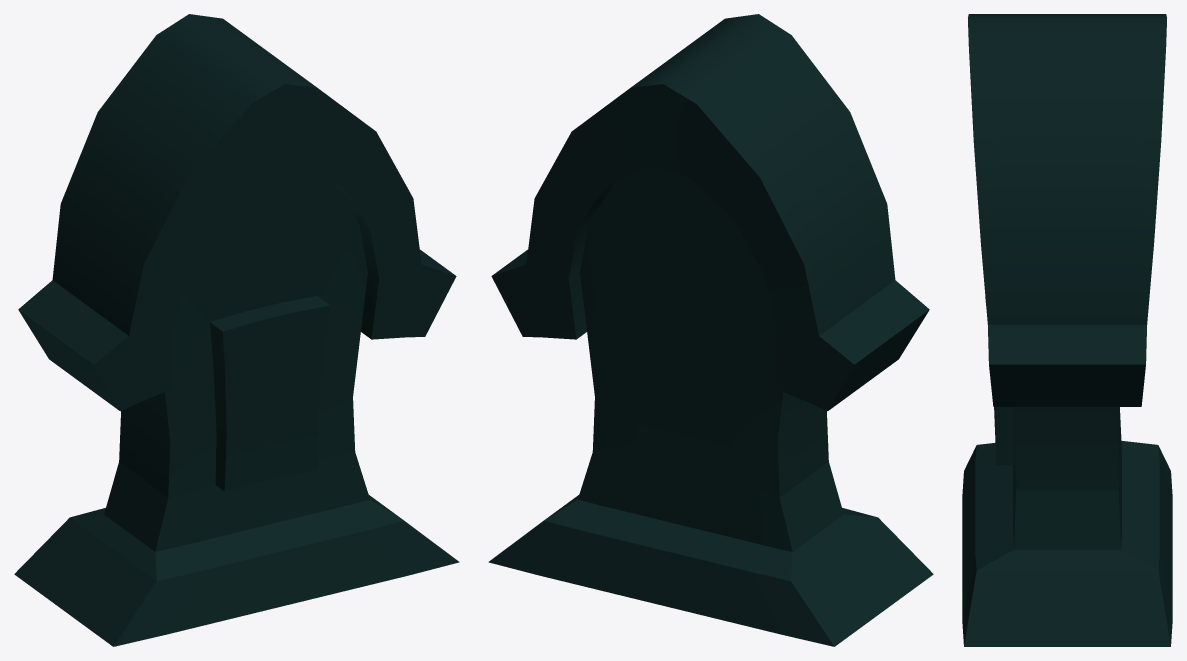
The model's file is gravestone_010_stone_0_lev1.glb.
3 views of the same model, side by side, from view 1: azimuth 30°, elevation 25°; view 2: azimuth 150°, elevation 25°; view 3: azimuth 270°, elevation 25° (orthographic). The views are drawn at different scales.
Visible parts, largest first — view 1: gravestone_010_stone_0_lev1; view 2: gravestone_010_stone_0_lev1; view 3: gravestone_010_stone_0_lev1.
Part boxes in pixels (x1=…): gravestone_010_stone_0_lev1: x1=14, y1=14, x2=459, y2=646; gravestone_010_stone_0_lev1: x1=488, y1=14, x2=933, y2=646; gravestone_010_stone_0_lev1: x1=962, y1=14, x2=1172, y2=646.
Bounding box in the file's own units: 0.4258 × 0.5821 × 0.2051.
